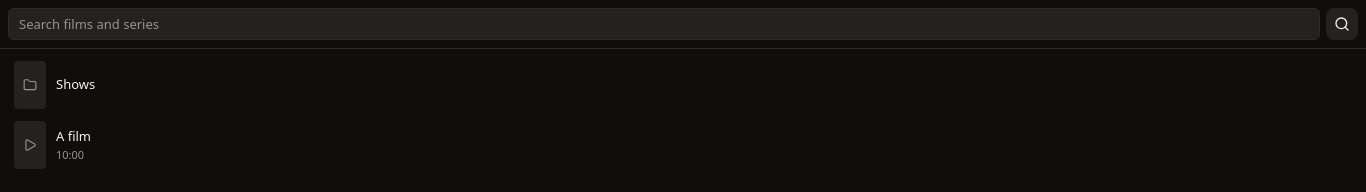
Test: goes into a folder and back, and hands over what is chosen to play
Click the button "Shows" at (30, 85), box [6,55,1360,115]
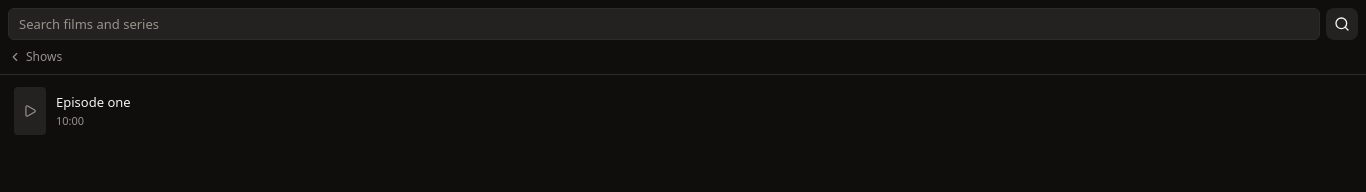
Click the button with aria-label "Watch Episode one" at (30, 111), box [6,81,1360,141]
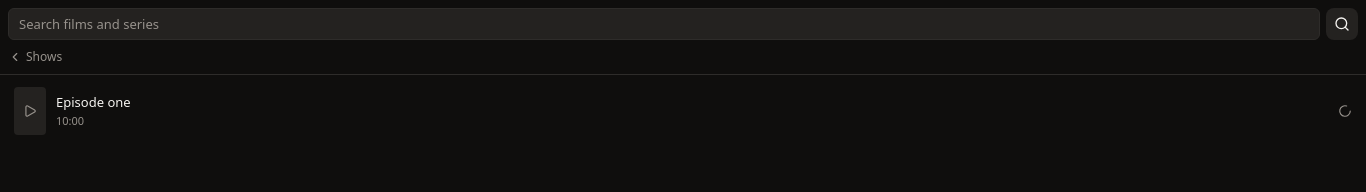
Click the button "Shows" at (35, 57), box [8,48,62,66]
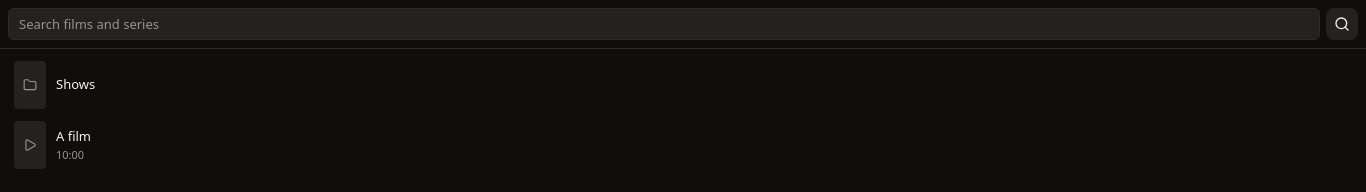
expect the button with aria-label "Watch A film" is shown: met, box [6,115,1360,175]
